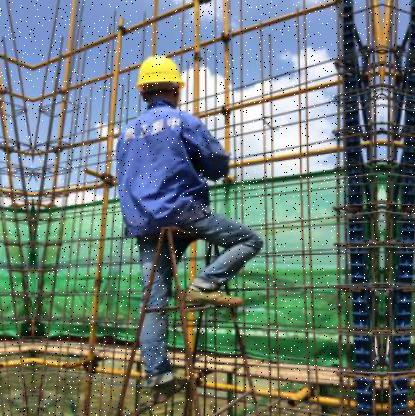helmet: (132, 50, 189, 109)
